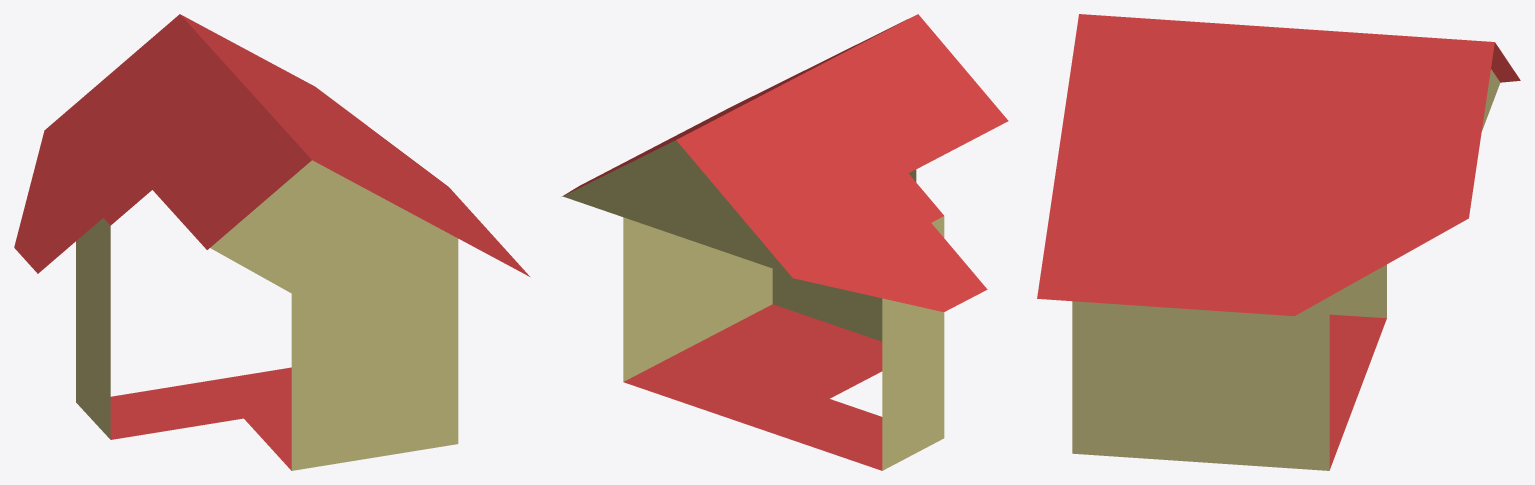
The picture shows the model from 3 angles, left to right: view 1: azimuth 30°, elevation 25°; view 2: azimuth 150°, elevation 25°; view 3: azimuth 270°, elevation 25°; orthographic projection. The views are drawn at different scales.
Size of the model in its own units: 22.87 by 20.95 by 17.21.
